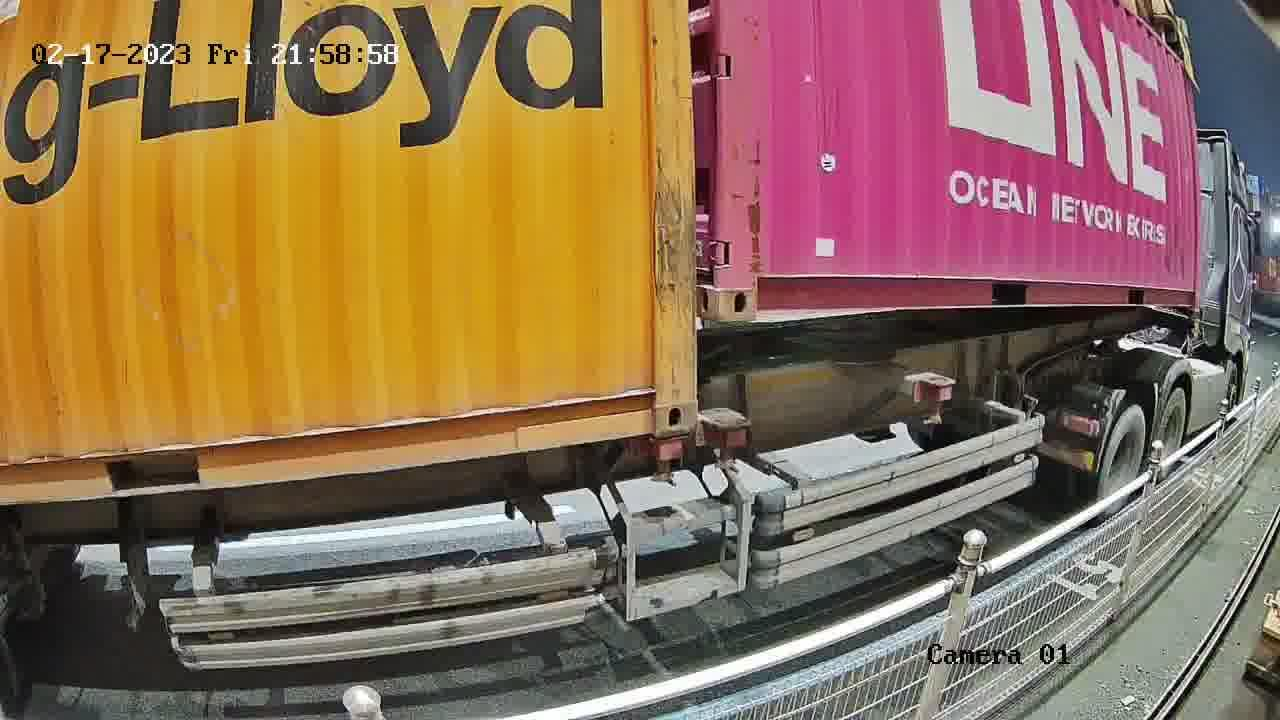Cone: (705, 415, 754, 477), (648, 436, 688, 491)
Hole_L: (718, 258, 793, 322)
Hole_R: (624, 372, 695, 436)
Tire: (1104, 409, 1144, 510), (1159, 389, 1186, 480)
